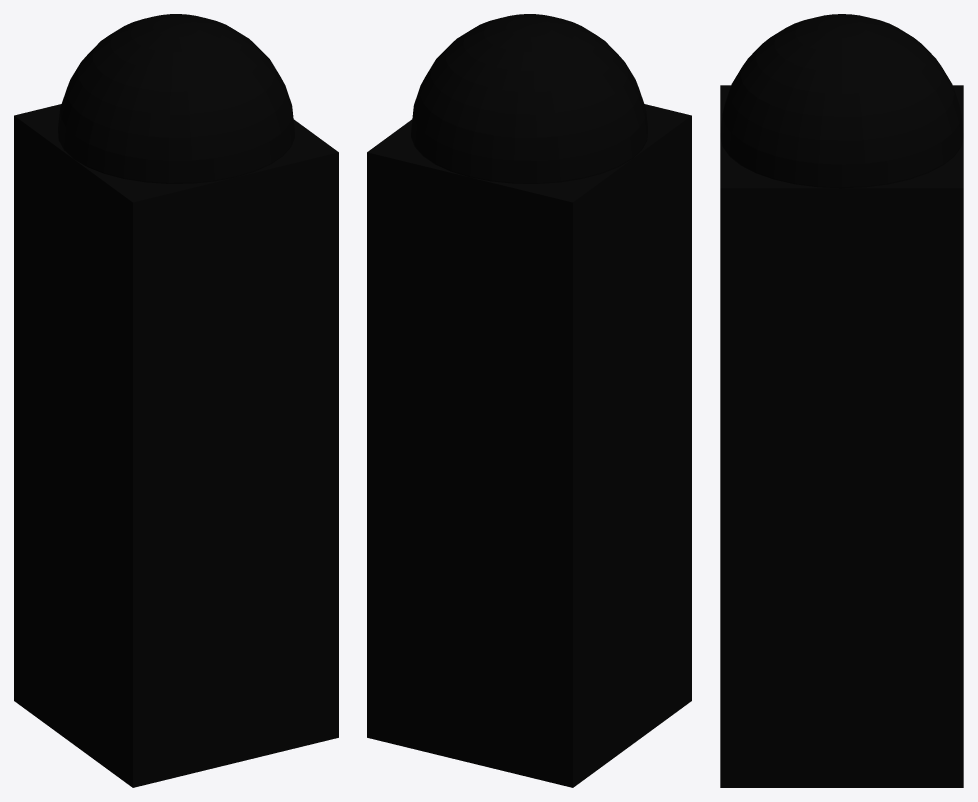
Rendered from enemy_left_foot_up.obj.
The picture shows the model from 3 angles, left to right: view 1: azimuth 30°, elevation 25°; view 2: azimuth 150°, elevation 25°; view 3: azimuth 270°, elevation 25°; orthographic projection. The views are drawn at different scales.
Visible parts, largest first — view 1: 立方體.014, 球體.006; view 2: 立方體.014, 球體.006; view 3: 立方體.014, 球體.006.
Boxes of the visible parts, x1,y1,x2,y2 form: 立方體.014: (14,104,338,787); 球體.006: (58,14,294,183); 立方體.014: (367,104,691,787); 球體.006: (411,14,647,183); 立方體.014: (720,85,963,787); 球體.006: (720,14,963,188).
Size of the model in its own units: 0.5804 by 1.87 by 0.5804.
Materials: 2 (2 with a texture image).
